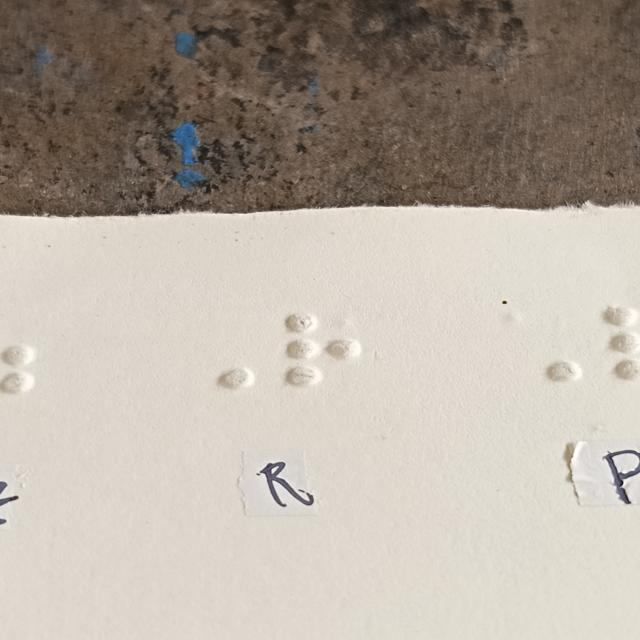R: (286, 312, 358, 385)
capital: (185, 316, 256, 389)
